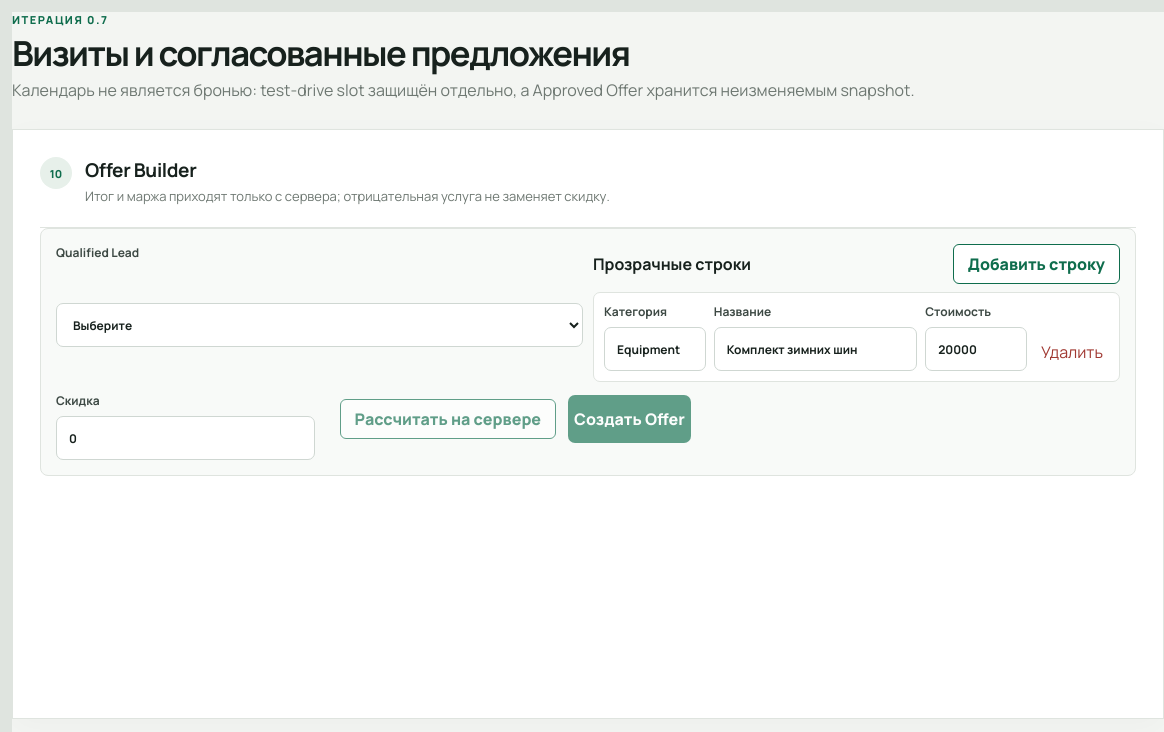
Test: SalesWorkspace › renders totals only from the server preview and explains manager approval
Select "Иван Покупатель" in the dropdown named "Lead для предложения" at (320, 325), box [56, 303, 583, 347]
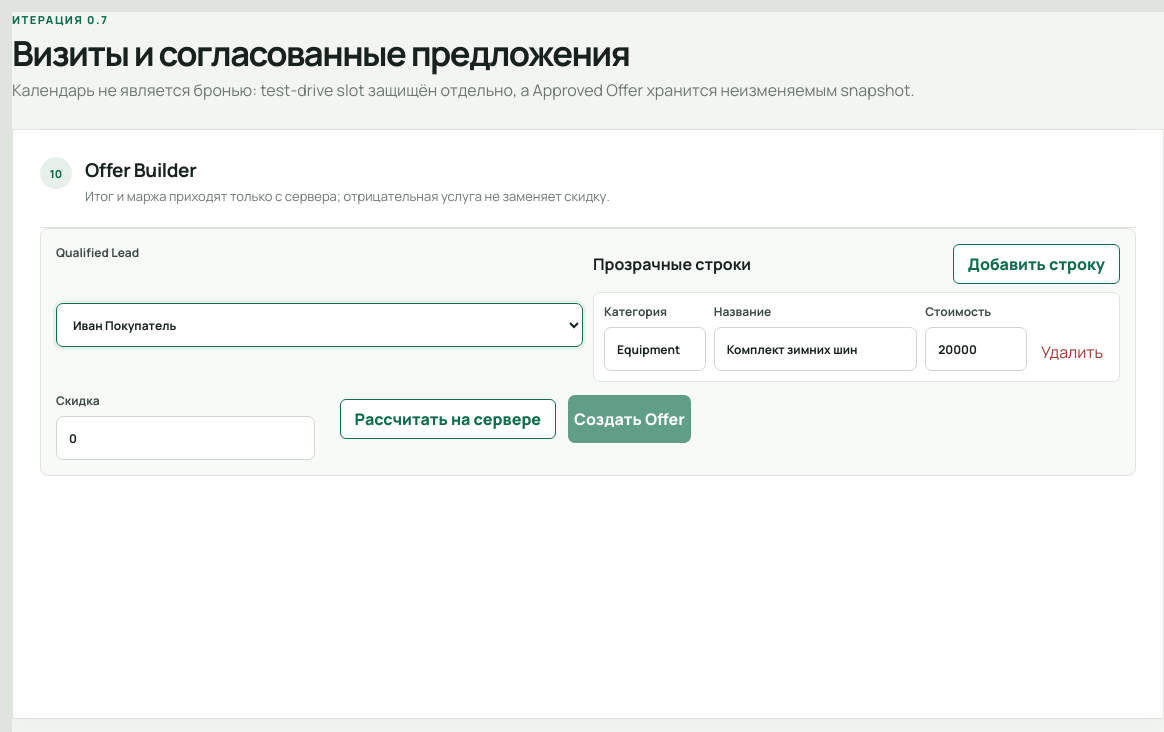
Replace the text in the number field labelled "Скидка" with "100000" at (185, 438), box [56, 416, 314, 460]
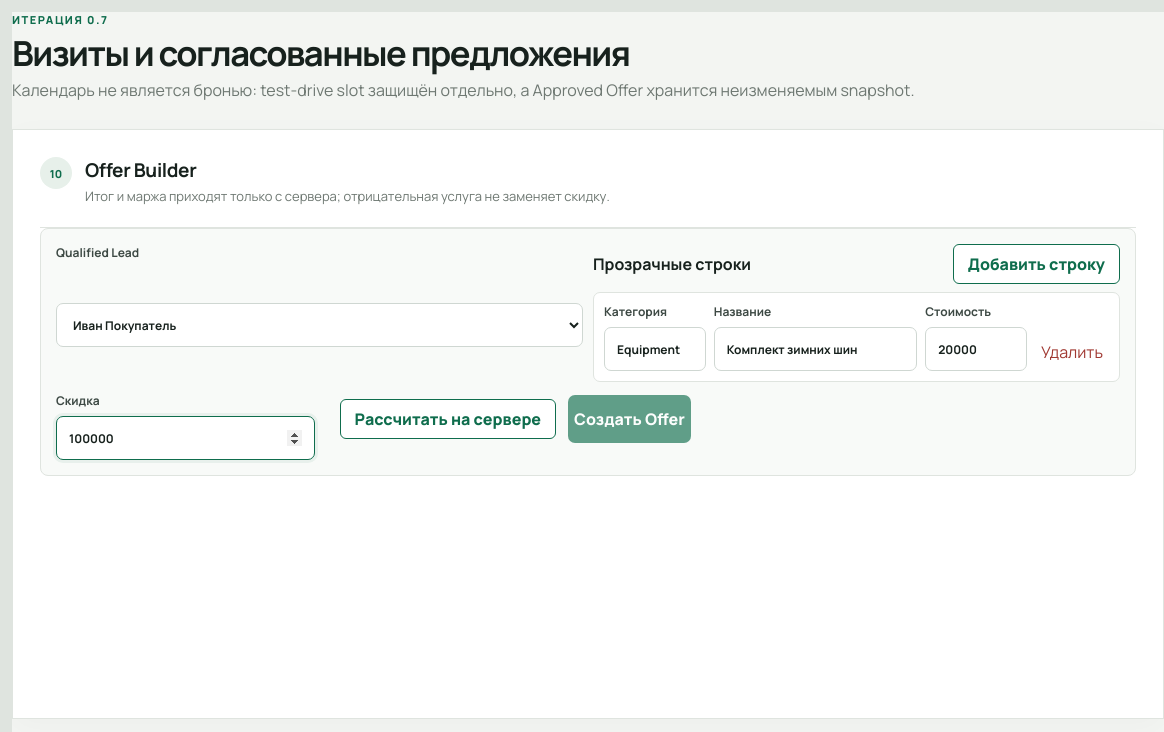
Click the button "Рассчитать на сервере".
click(448, 419)  # box [340, 399, 556, 439]
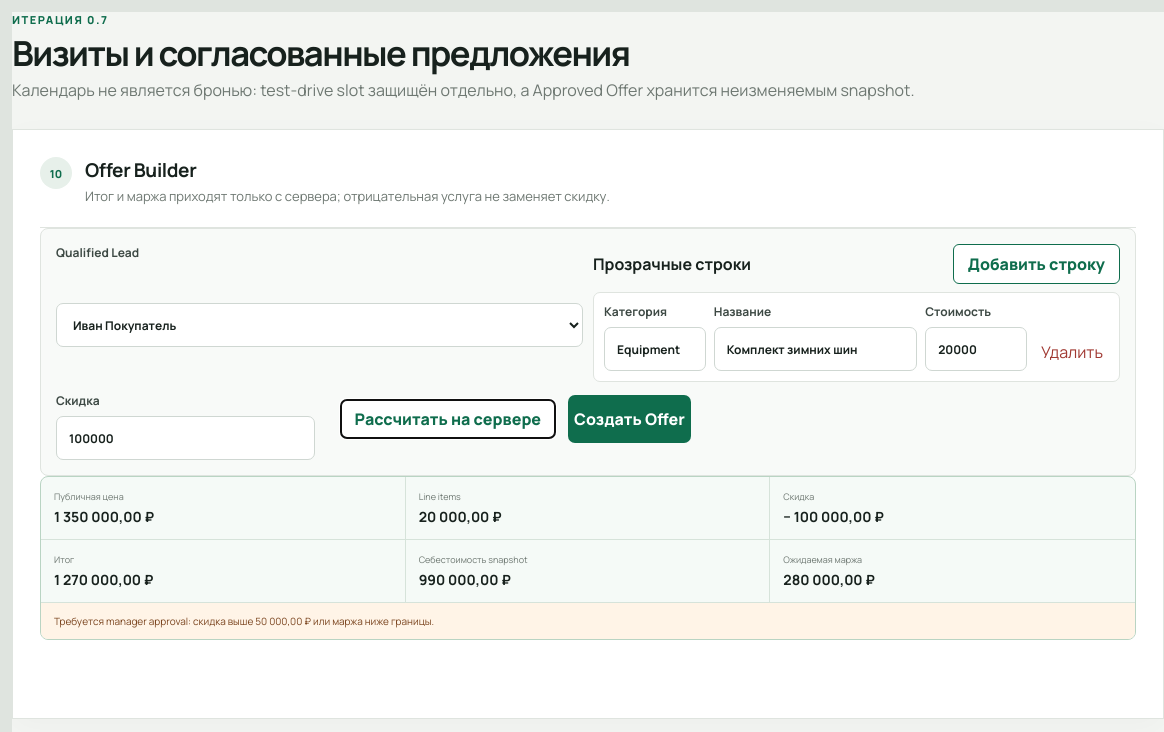
Check: the text "1 270 000,00 ₽" is shown, box [54, 570, 154, 589]
Check: the text "Требуется manager approval" is shown, box [54, 614, 255, 628]
Check: the button "Создать Offer" is enabled, box [568, 395, 691, 443]
